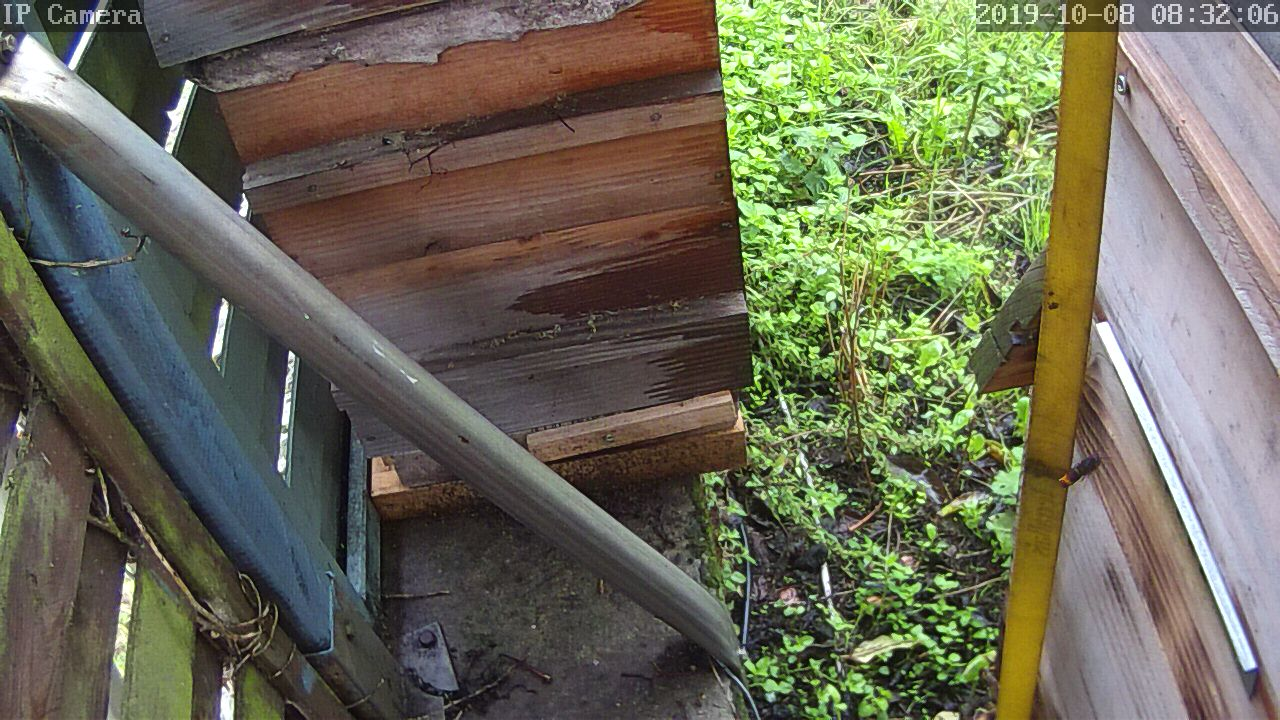hornet: (1056, 451, 1111, 489)
